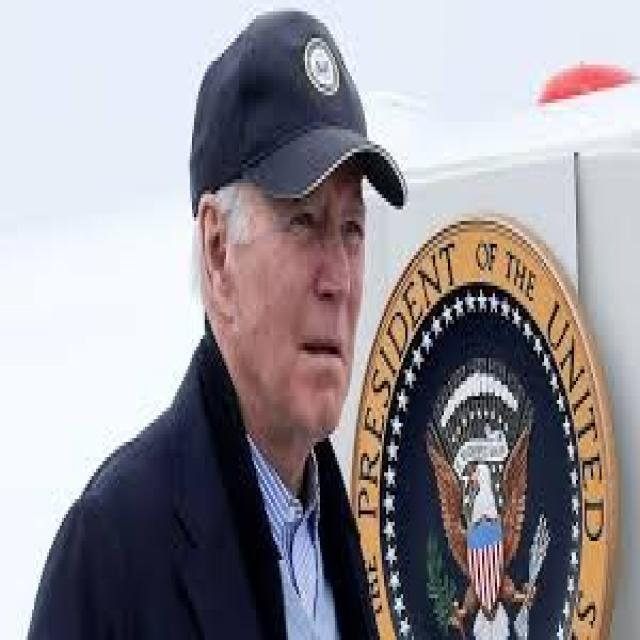3_gorra: (187, 3, 409, 221)
